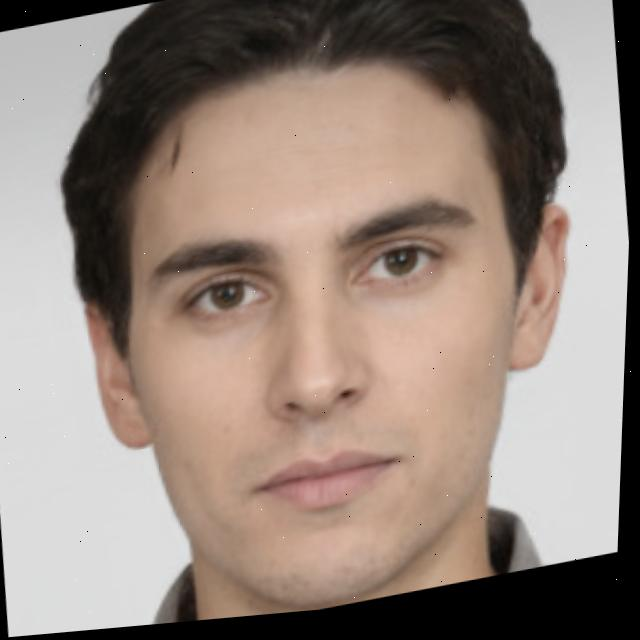natural: (4, 0, 640, 638)
